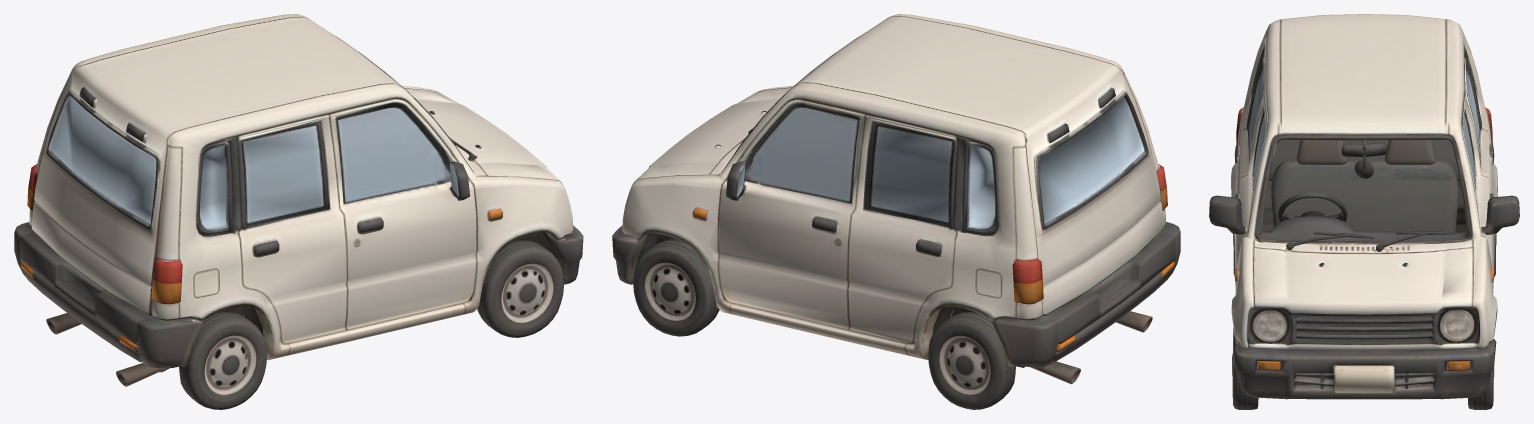
The model's file is kei_car.glb.
The picture shows the model from 3 angles, left to right: view 1: azimuth 30°, elevation 25°; view 2: azimuth 150°, elevation 25°; view 3: azimuth 270°, elevation 25°; orthographic projection. The views are drawn at different scales.
Parts seen in each view (by area): view 1: tripo_node_5fc5411d-6180-4f43-bfa9-56c581b1c985; view 2: tripo_node_5fc5411d-6180-4f43-bfa9-56c581b1c985; view 3: tripo_node_5fc5411d-6180-4f43-bfa9-56c581b1c985.
Part boxes in pixels (x1,y1,x2,y2): tripo_node_5fc5411d-6180-4f43-bfa9-56c581b1c985: [14, 14, 583, 409]; tripo_node_5fc5411d-6180-4f43-bfa9-56c581b1c985: [612, 14, 1180, 409]; tripo_node_5fc5411d-6180-4f43-bfa9-56c581b1c985: [1209, 14, 1519, 409].
Bounding box in the file's own units: 0.9995 × 0.5737 × 0.6616.
Materials: 1 (1 with a texture image).
